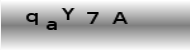7: (85, 11, 100, 26)
A: (111, 11, 129, 25)
Y: (60, 7, 75, 21)
a: (45, 20, 58, 31)
q: (25, 12, 39, 26)
